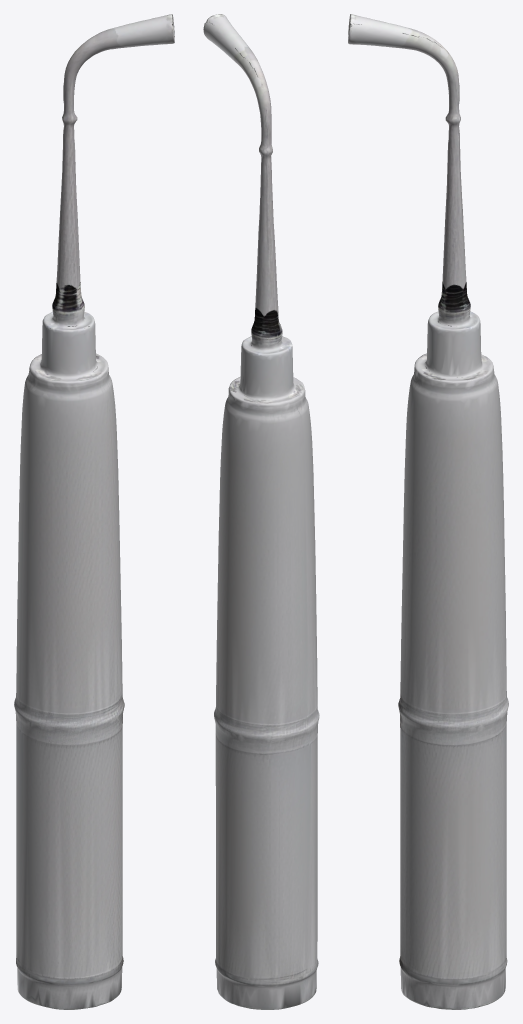
Rendered from vet_equip_laryngoscope.glb.
The picture shows the model from 3 angles, left to right: view 1: azimuth 90°, elevation 25°; view 2: azimuth 210°, elevation 25°; view 3: azimuth 270°, elevation 25°; orthographic projection. The views are drawn at different scales.
Parts seen in each view (by area): view 1: model; view 2: model; view 3: model.
Part boxes in pixels (x1,y1,x2,y2): model: (14,14,174,1009); model: (203,14,319,1009); model: (348,14,508,1009).
Size of the model in its own units: 0.1929 by 1.9 by 0.2848.
Materials: 1 (1 with a texture image).
